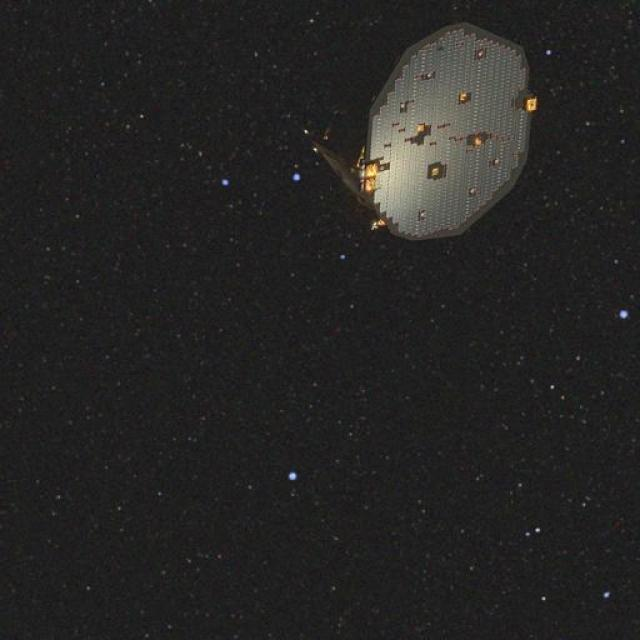lisa_pathfinder: (279, 15, 587, 259)
